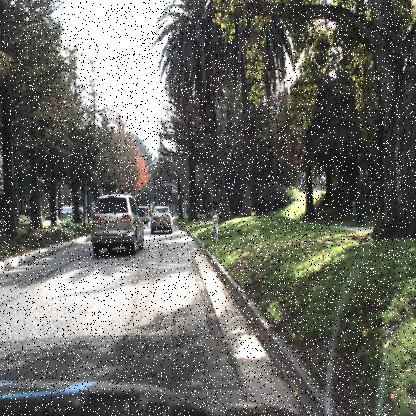car: (90, 190, 146, 257), (148, 202, 175, 238), (38, 212, 63, 232), (40, 215, 58, 229)
trafficLight-Red: (159, 178, 164, 188)
